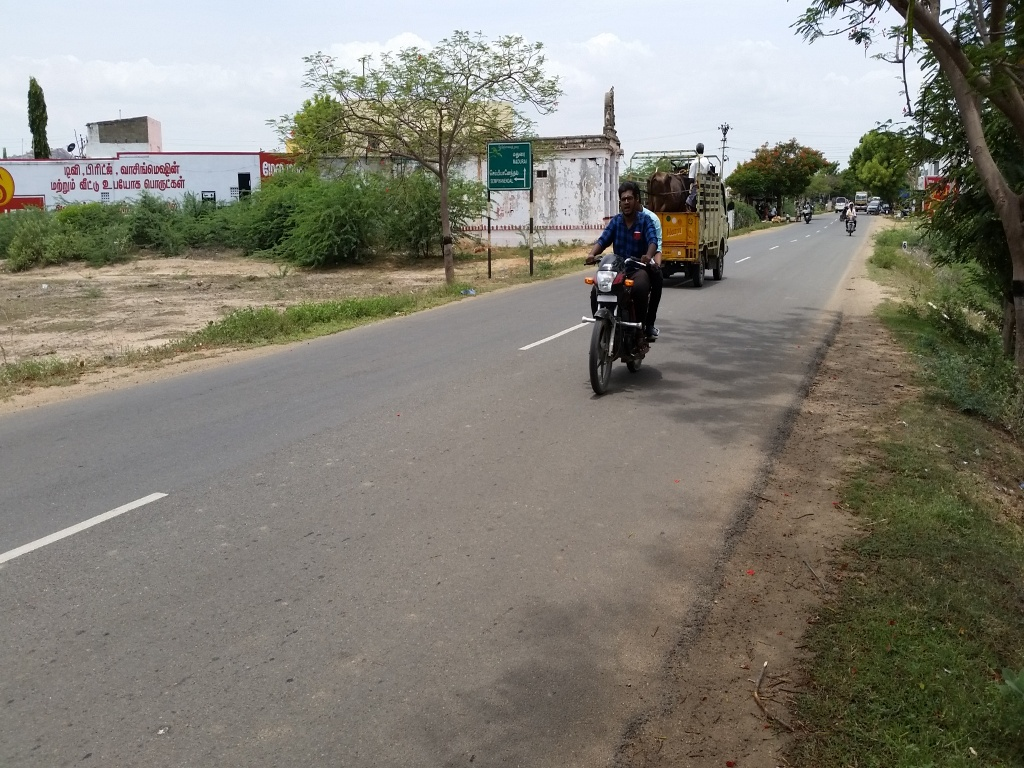biker: (547, 154, 684, 406)
nohelmet: (612, 172, 651, 227)
